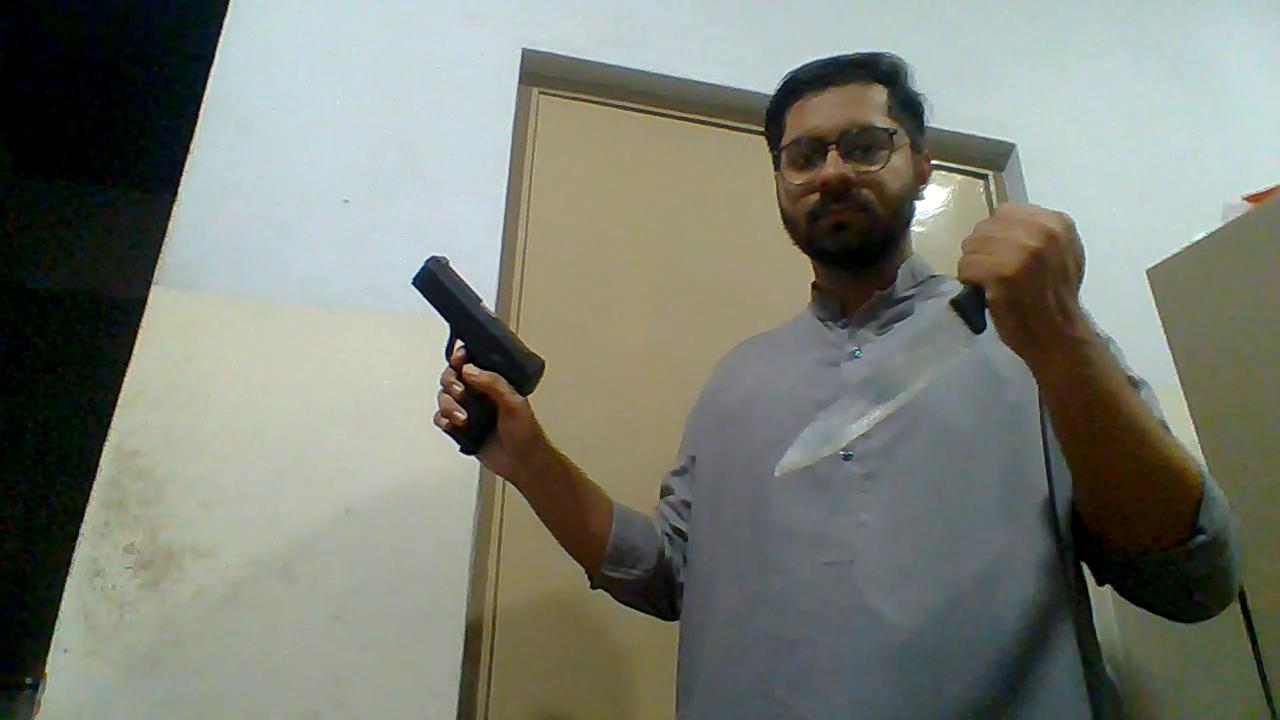criminal: (411, 50, 1242, 720)
weapon: (772, 283, 990, 479), (412, 254, 547, 454)
